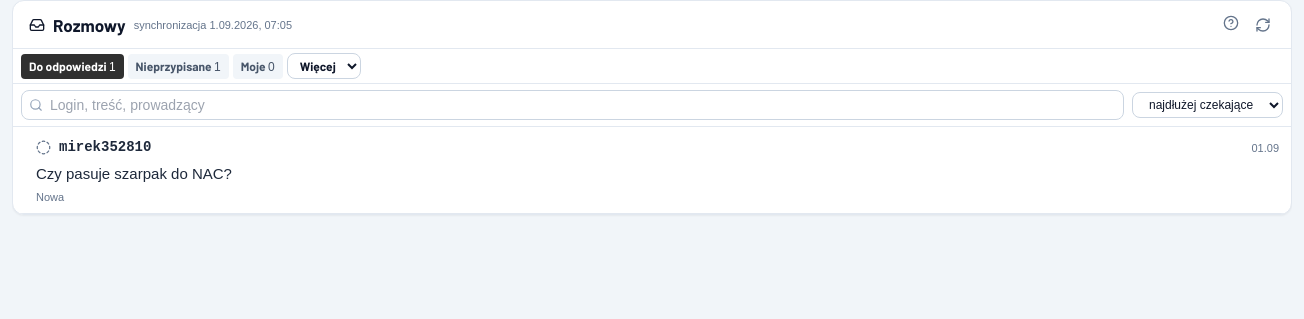
Test: Szukanie w kolejce › zawęża po TREŚCI, bo loginu nikt nie pamięta
This screenshot has width=1304, height=319.
Type keys "6"
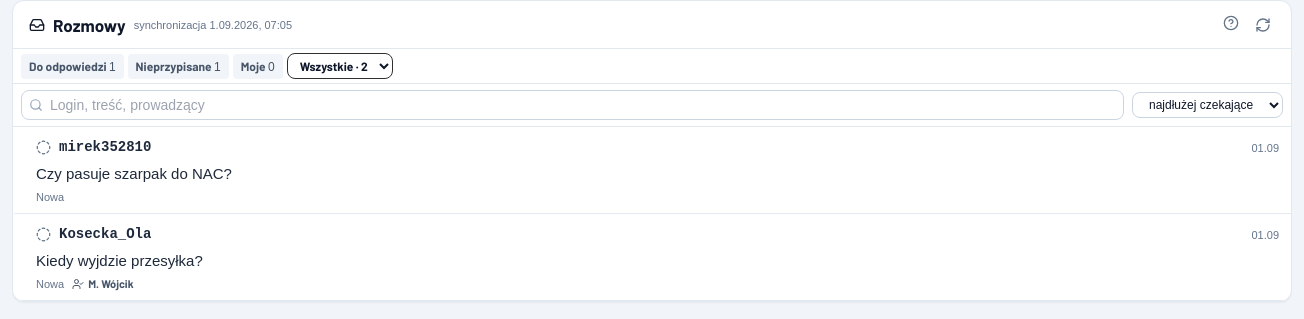
Type "przesyłka" into the field named "Szukaj w rozmowach" at (572, 105), box [21,90,1124,120]
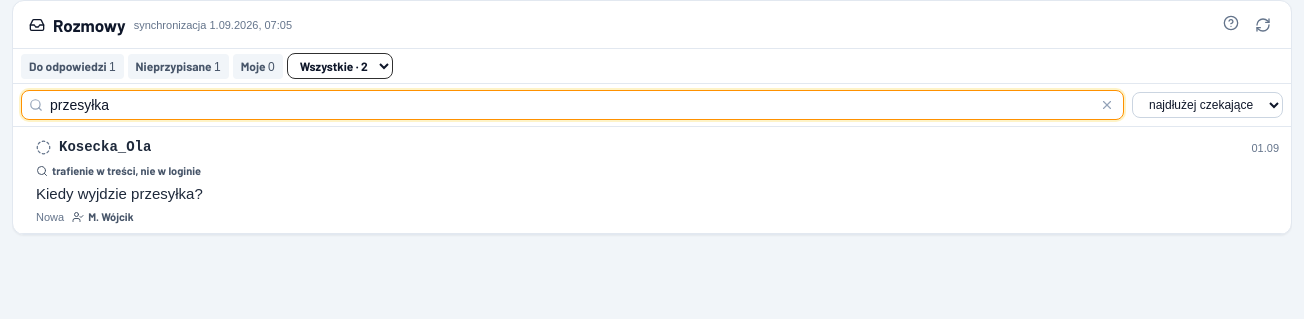
Expected: the text "Kosecka_Ola" is shown, [59,137,151,157]
Expected: the button "mirek352810" is gone
